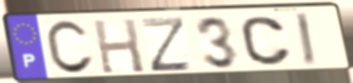3: (194, 14, 240, 71)
C: (43, 19, 97, 77), (238, 15, 294, 67)
H: (91, 17, 147, 76)
I: (292, 11, 319, 68)
Z: (138, 15, 194, 74)
